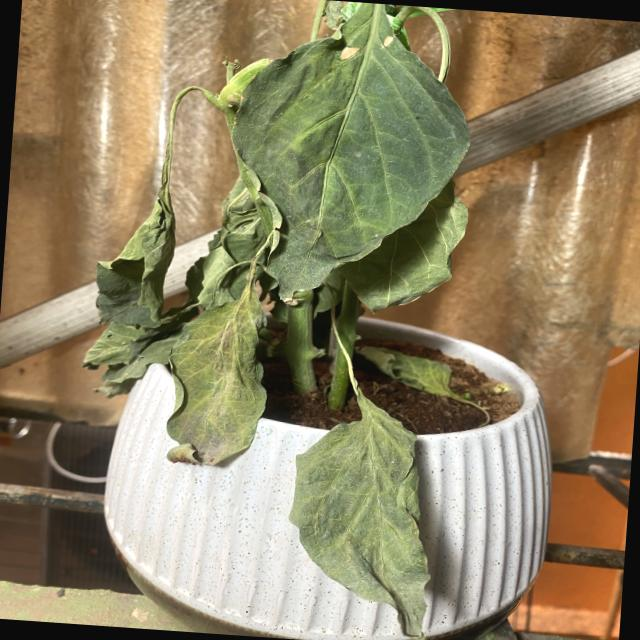Leaf: (222, 11, 478, 316), (279, 396, 444, 640), (158, 290, 275, 472)
